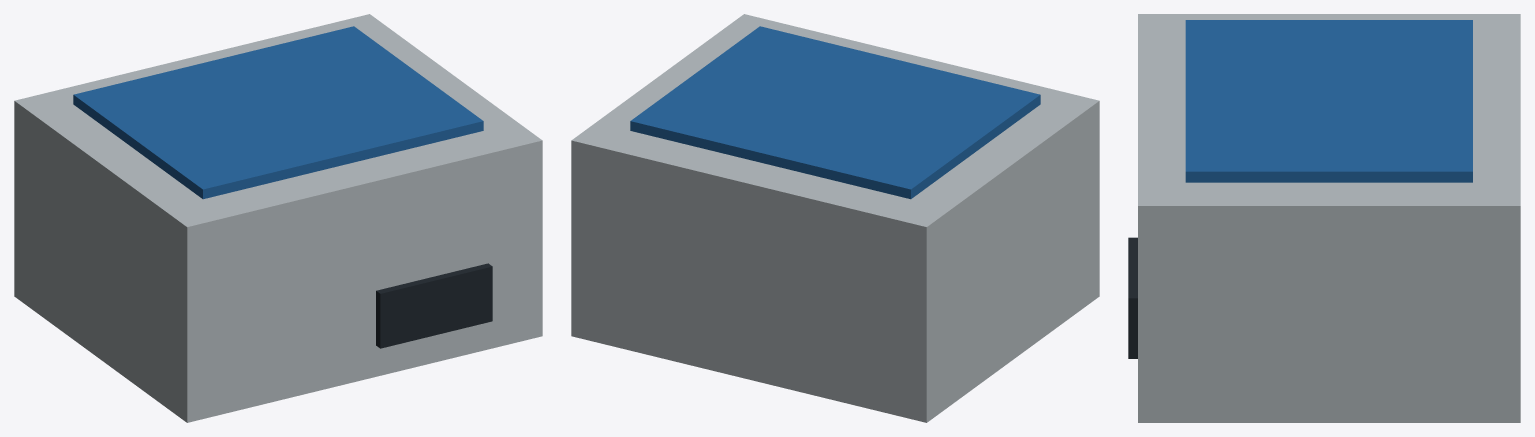
File: catalogue-heat-bath.glb
The picture shows the model from 3 angles, left to right: view 1: azimuth 30°, elevation 25°; view 2: azimuth 150°, elevation 25°; view 3: azimuth 270°, elevation 25°; orthographic projection. The views are drawn at different scales.
Size of the model in its own units: 0.95 by 0.5325 by 0.82.
